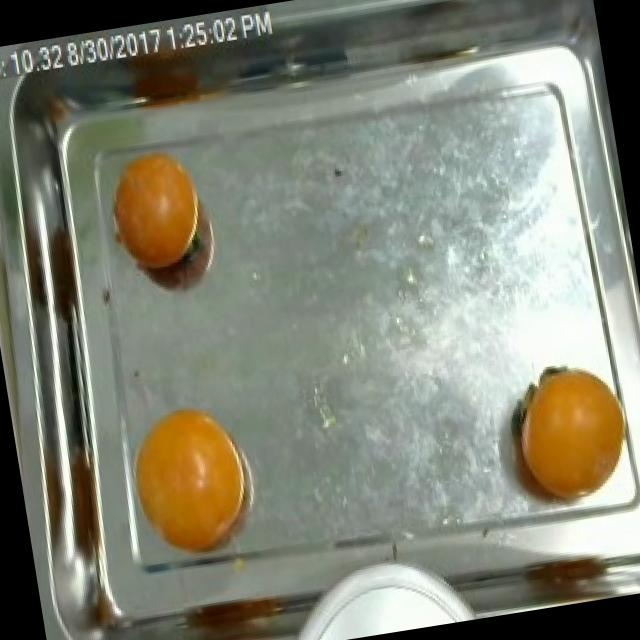Fruit: (105, 381, 278, 583), (487, 349, 640, 535), (90, 126, 222, 295)
